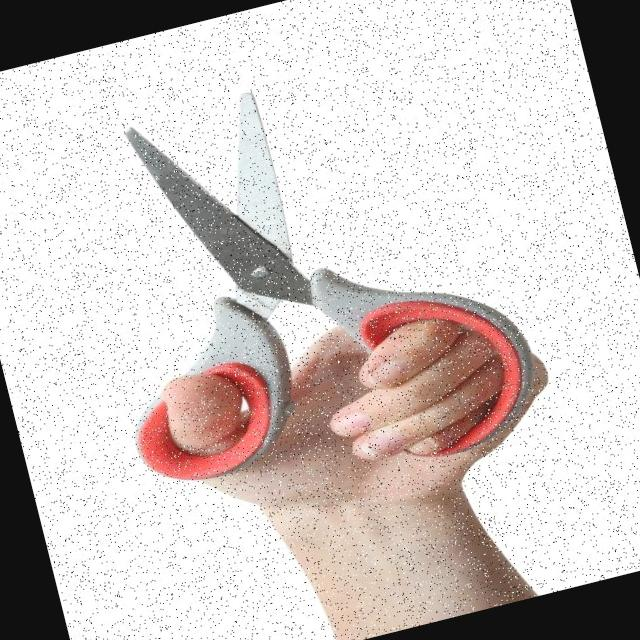scissors: (49, 38, 552, 534)
